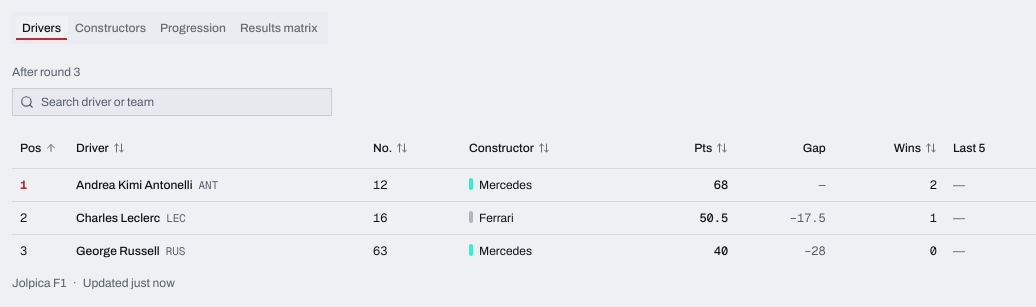
Test: standings › filters by driver or team name
Step 1. Type "ferrari" into the search field named "Search drivers" → {"x": 172, "y": 102}, box [12,88,332,116]
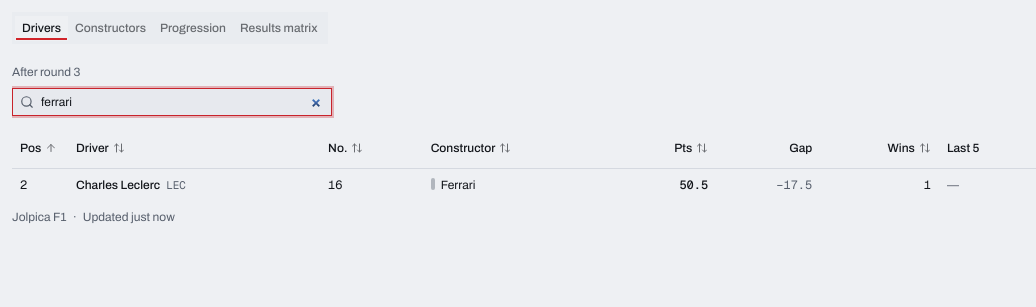
Expected: the table shows "Leclerc", [76,178,160,192]
Result: the number of rows is 2 at [12,128,1035,168]; [12,168,1035,200]
